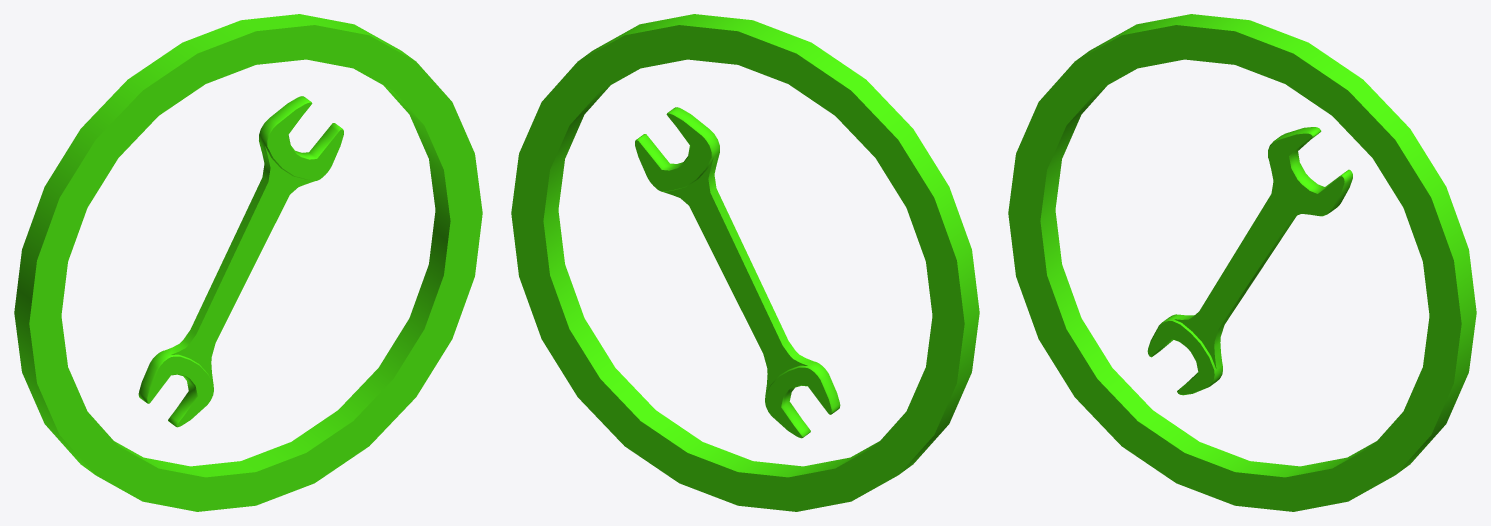
File: Health.fbx
The picture shows the model from 3 angles, left to right: view 1: azimuth 30°, elevation 25°; view 2: azimuth 150°, elevation 25°; view 3: azimuth 330°, elevation 25°; orthographic projection.
Visible parts, largest first — view 1: HEALTH; view 2: HEALTH; view 3: HEALTH.
Boxes of the visible parts, left/top/right/bottom form: HEALTH: left=14, top=14, right=482, bottom=511; HEALTH: left=511, top=14, right=979, bottom=511; HEALTH: left=1008, top=14, right=1476, bottom=511.
Bounding box in the file's own units: 39.42 × 39.42 × 2.9.
